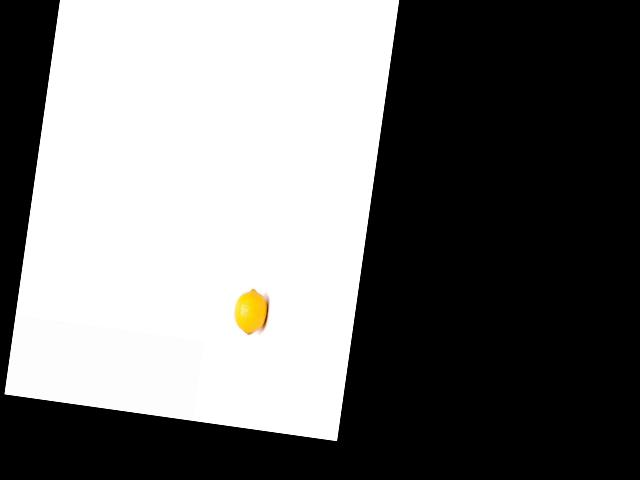lemon: (230, 282, 275, 337)
